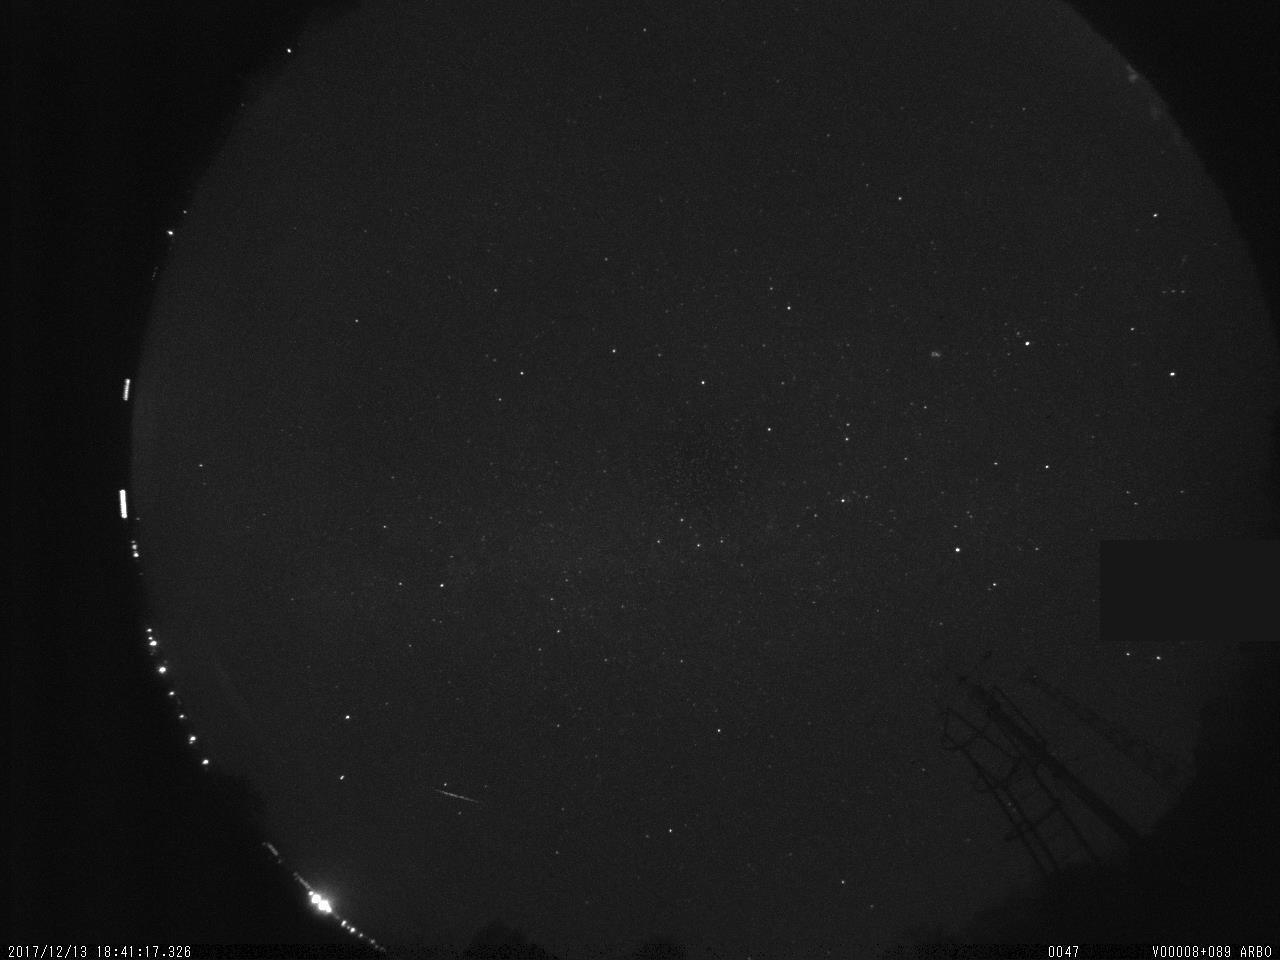meteor: (428, 781, 490, 810)
